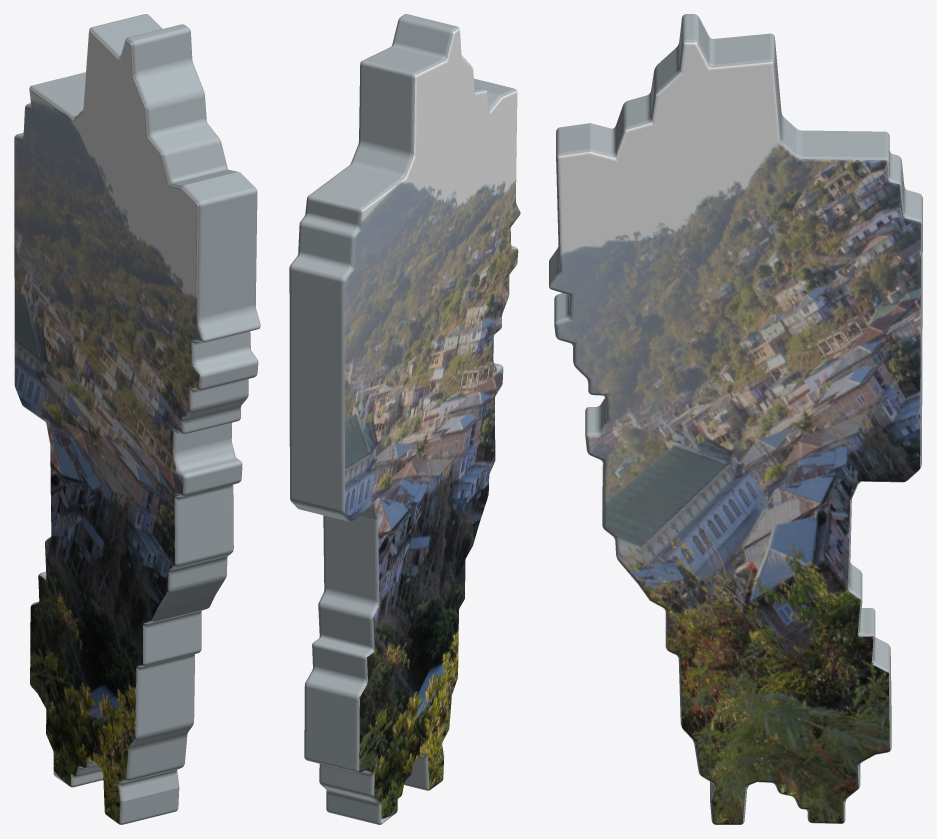
The model's file is mizoram.glb.
The picture shows the model from 3 angles, left to right: view 1: azimuth 30°, elevation 25°; view 2: azimuth 150°, elevation 25°; view 3: azimuth 270°, elevation 25°; orthographic projection. The views are drawn at different scales.
Parts seen in each view (by area): view 1: Object_60; view 2: Object_60; view 3: Object_60.
Part boxes in pixels (x1,y1,x2,y2): Object_60: [14, 14, 260, 824]; Object_60: [289, 14, 520, 824]; Object_60: [549, 14, 922, 824].
Bounding box in the file's own units: 0.0326 × 0.3923 × 0.1696.
1 material, 1 textured.
